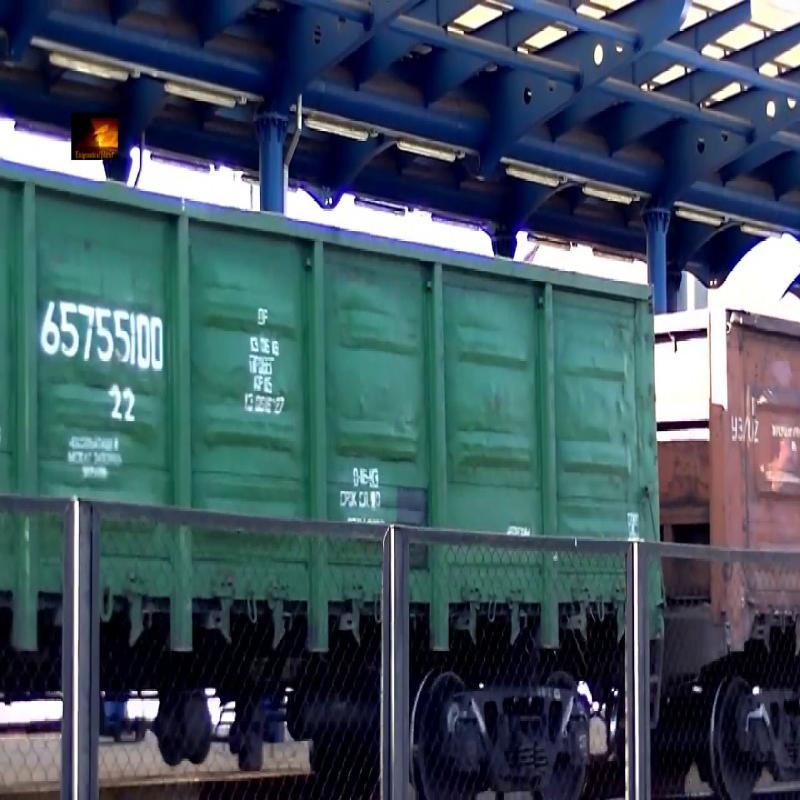train: (2, 47, 720, 771), (728, 46, 800, 766)
